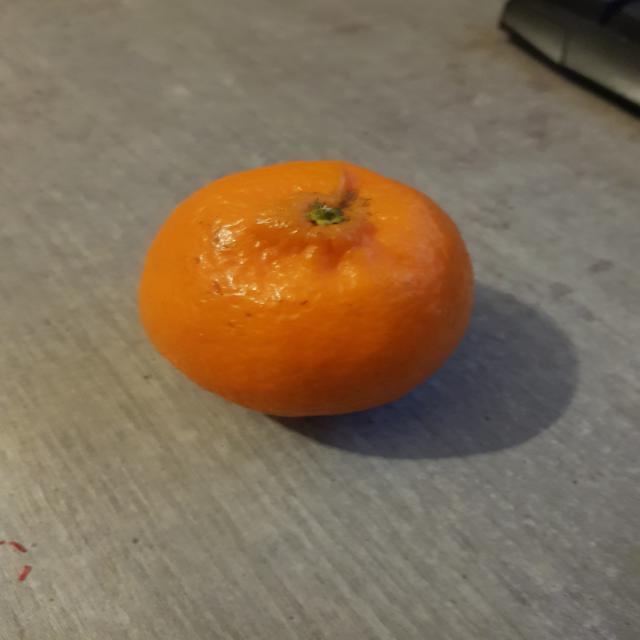Orange: (138, 161, 476, 419)
